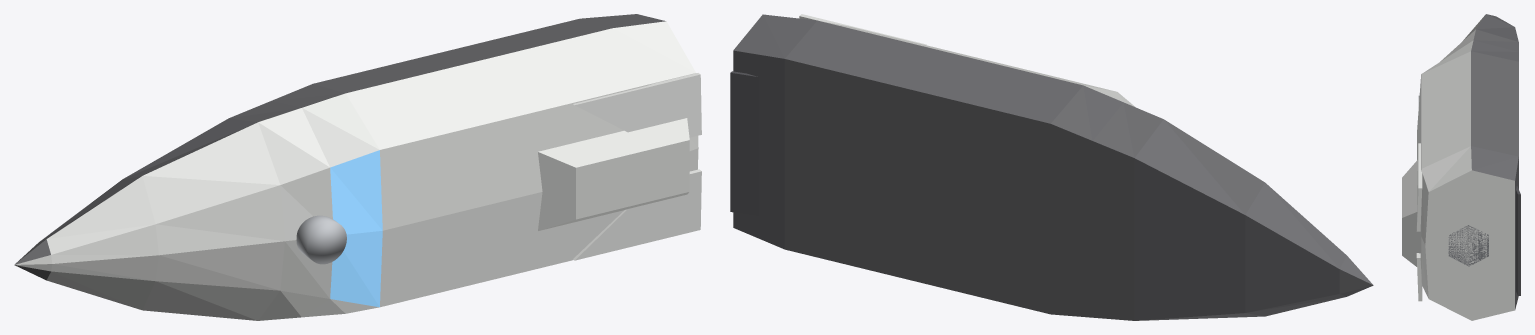
File: wayfarer_b4s_rolled90_venus_kit_payload.glb
3 views of the same model, side by side, from view 1: azimuth 30°, elevation 25°; view 2: azimuth 150°, elevation 25°; view 3: azimuth 270°, elevation 25° (orthographic). The views are drawn at different scales.
Parts seen in each view (by area): view 1: hull, kit_pod, belly_tps, glazing, fin_stbd, fin_port, dorsal_hatch; view 2: belly_tps, body_flap, hull; view 3: hull, belly_tps, kit_pod, torch_nozzle, body_flap, fin_stbd, fin_port.
Part boxes in pixels (x1,y1,x2,y2): hull: (15,21,698,320); kit_pod: (538,118,689,230); belly_tps: (14,14,665,280); glazing: (330,150,382,307); fin_stbd: (573,73,701,137); fin_port: (573,169,701,260); dorsal_hatch: (296,215,346,264); belly_tps: (733,14,1373,320); body_flap: (730,71,758,216); hull: (820,21,1135,107); hull: (1417,15,1514,320); belly_tps: (1471,14,1518,309); kit_pod: (1402,160,1421,268); torch_nozzle: (1448,225,1488,266); body_flap: (1516,186,1520,295); fin_stbd: (1416,143,1422,231); fin_port: (1416,253,1422,301).
Bounding box in the file's own units: 12.8 × 4.26 × 2.86.
